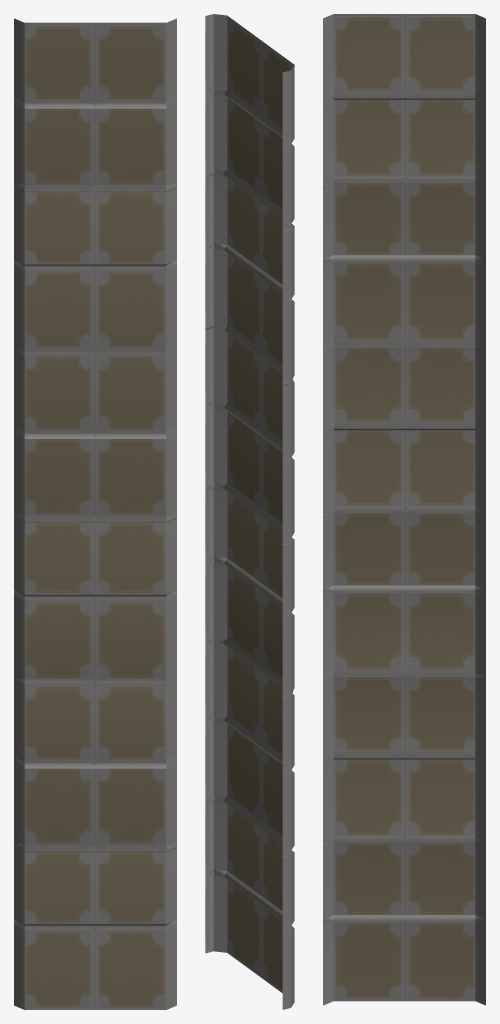
The model's file is panels.obj.
3 views of the same model, side by side, from view 1: azimuth 90°, elevation 25°; view 2: azimuth 210°, elevation 25°; view 3: azimuth 270°, elevation 25° (orthographic). The views are drawn at different scales.
Parts seen in each view (by area): view 1: panels; view 2: panels; view 3: panels.
Boxes of the visible parts, x1=… form: panels: x1=14, y1=18, x2=176, y2=1009; panels: x1=205, y1=14, x2=294, y2=1009; panels: x1=323, y1=14, x2=485, y2=1005.
Size of the model in its own units: 60.23 by 3166 by 473.
Materials: 1 (1 with a texture image).
